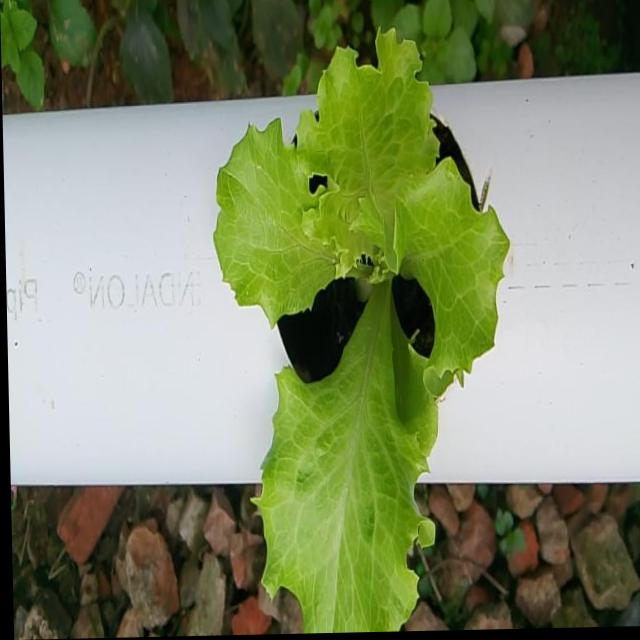Baby: (209, 28, 506, 634)
